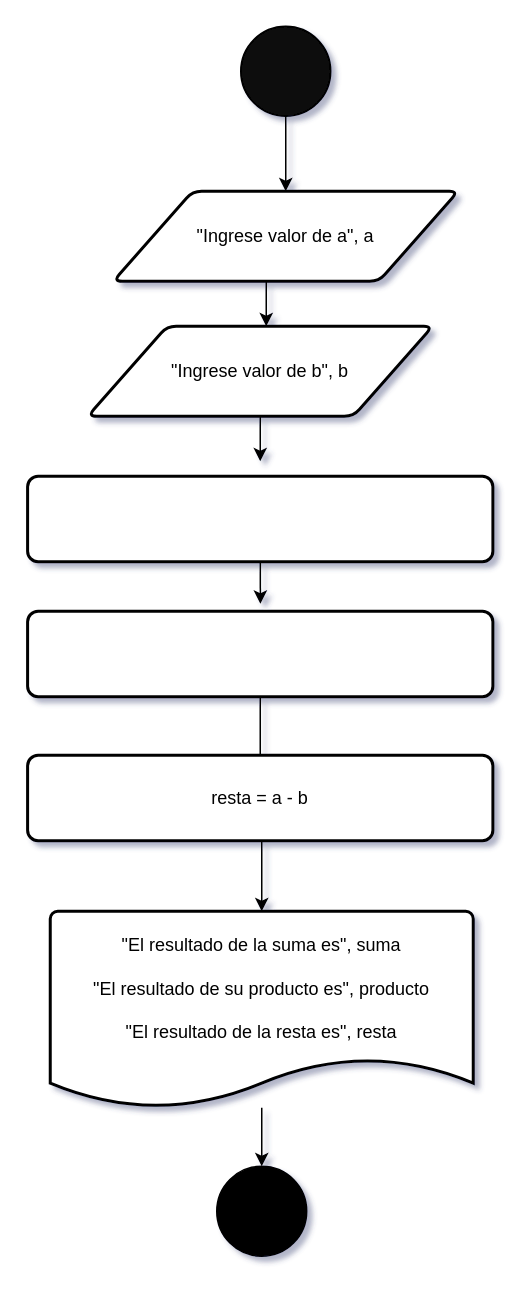
Image size: 530x1292. Some labels were removed from this diagram. Here are the shapes that lost their labels. From the top down, the centre of each, then its label:
(x=259, y=518): suma = a + b
(x=259, y=653): producto = a * b
